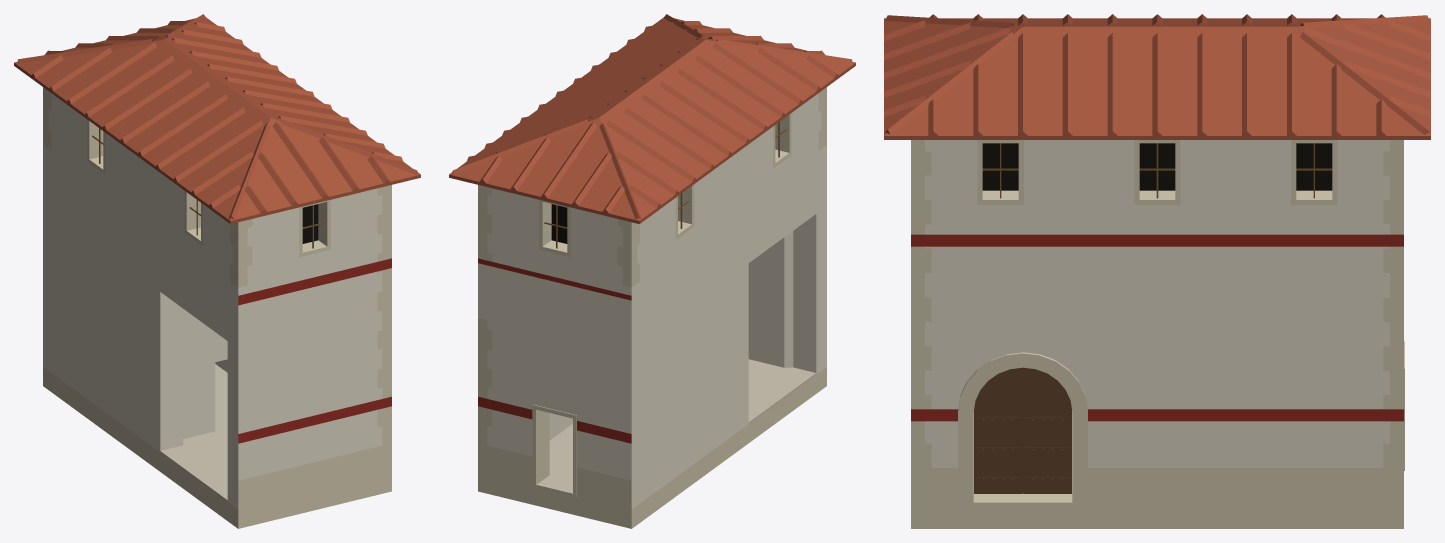
File: rome_tib_lodge_e.glb
3 renders of one model, left to right at view 1: azimuth 30°, elevation 25°; view 2: azimuth 150°, elevation 25°; view 3: azimuth 270°, elevation 25°, orthographic. The views are drawn at different scales.
Visible parts, largest first — view 1: shell, interior, room_mendao, room_zhifang; view 2: shell, interior, room_mendao, room_zhifang; view 3: shell.
Part boxes in pixels (bbox=[...]): shell: bbox=[14, 14, 420, 528]; interior: bbox=[183, 309, 227, 438]; room_mendao: bbox=[160, 428, 227, 501]; room_zhifang: bbox=[215, 364, 227, 431]; shell: bbox=[449, 14, 855, 528]; interior: bbox=[549, 231, 793, 440]; room_mendao: bbox=[748, 359, 816, 423]; room_zhifang: bbox=[536, 424, 572, 495]; shell: bbox=[884, 14, 1430, 528].
Size of the model in its own units: 6.2 by 11.2 by 12.2.
